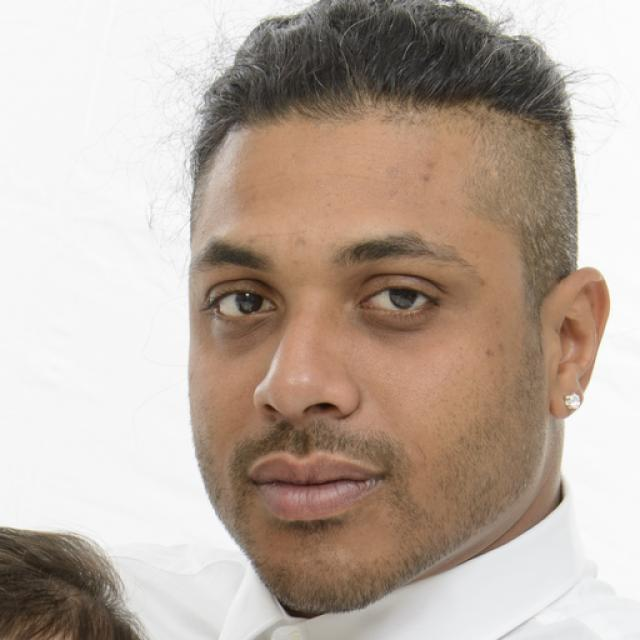neutral: (186, 96, 550, 614)
